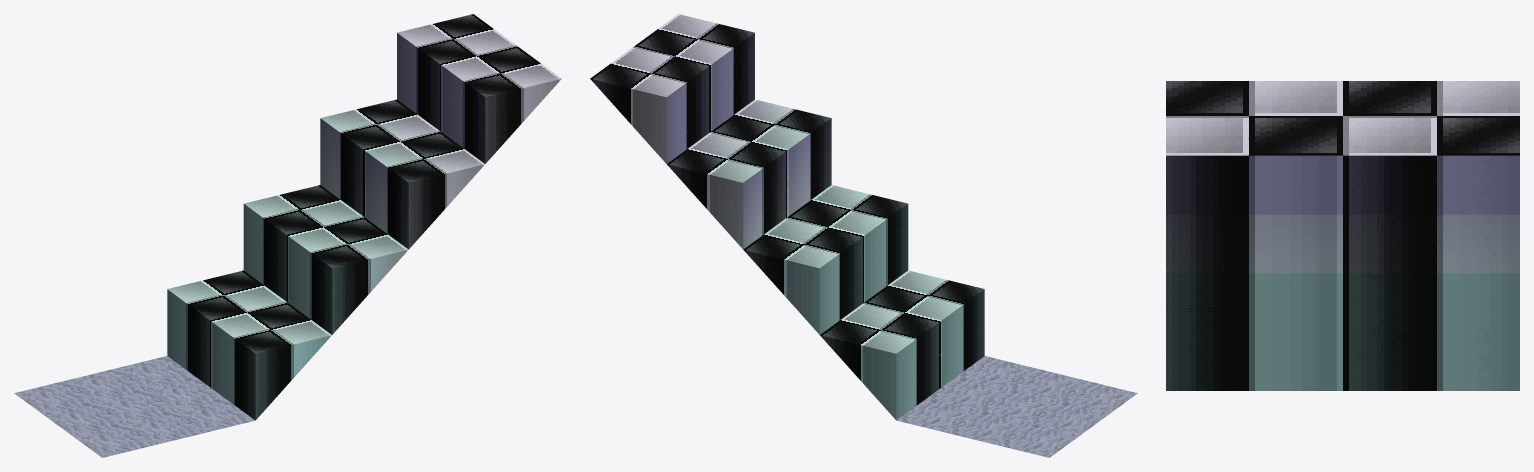
File: km1_dorifu0.glb
3 views of the same model, side by side, from view 1: azimuth 30°, elevation 25°; view 2: azimuth 150°, elevation 25°; view 3: azimuth 270°, elevation 25° (orthographic). The views are drawn at different scales.
Visible parts, largest first — view 1: km1_dorifu0; view 2: km1_dorifu0; view 3: km1_dorifu0.
Boxes of the visible parts, left/top/right/bottom form: km1_dorifu0: left=14, top=14, right=561, bottom=457; km1_dorifu0: left=590, top=14, right=1137, bottom=457; km1_dorifu0: left=1166, top=81, right=1519, bottom=390.
Bounding box in the file's own units: 7.03 × 3.91 × 2.34.
2 materials, 2 textured.
